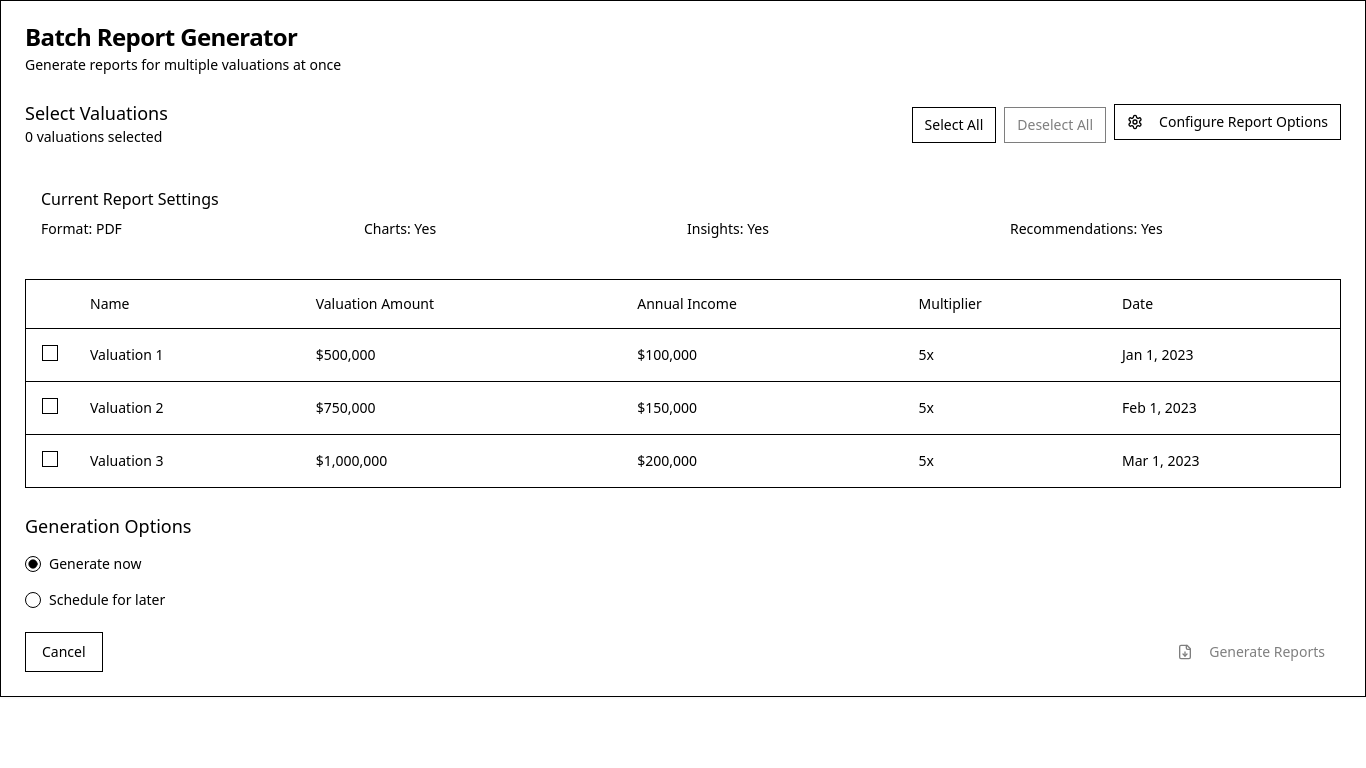
Test case: BatchReportGenerator Component › should allow selecting multiple valuations for batch reporting
Check: the text "Valuation 1" is shown, box [90,344,164,364]
What coordinates should you click on to do the following:
click the checkbox named "Select Valuation 1"
I would click on:
 (50, 352)
Its box is [42,344,58,360].
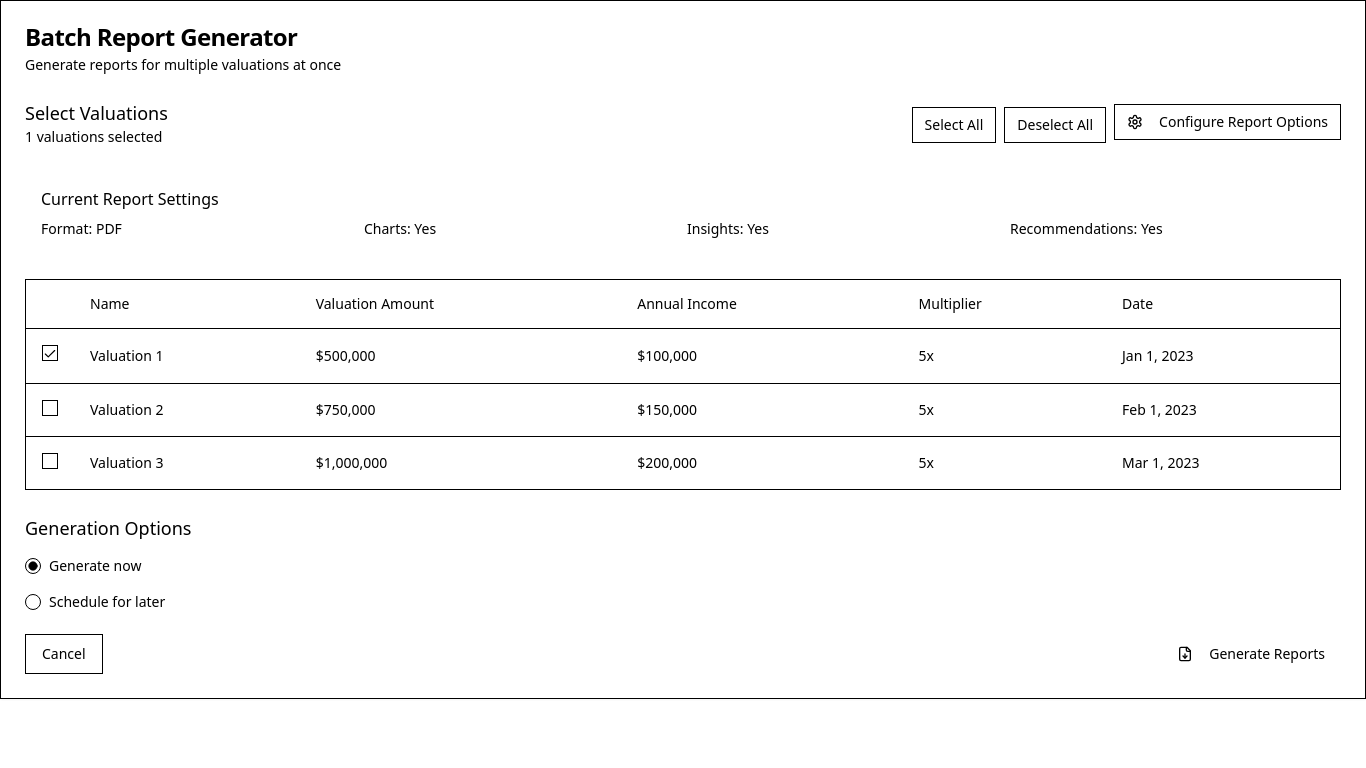
What coordinates should you click on to do the following:
click the checkbox named "Select Valuation 3"
I would click on:
 (50, 460)
Its box is [42,452,58,468].
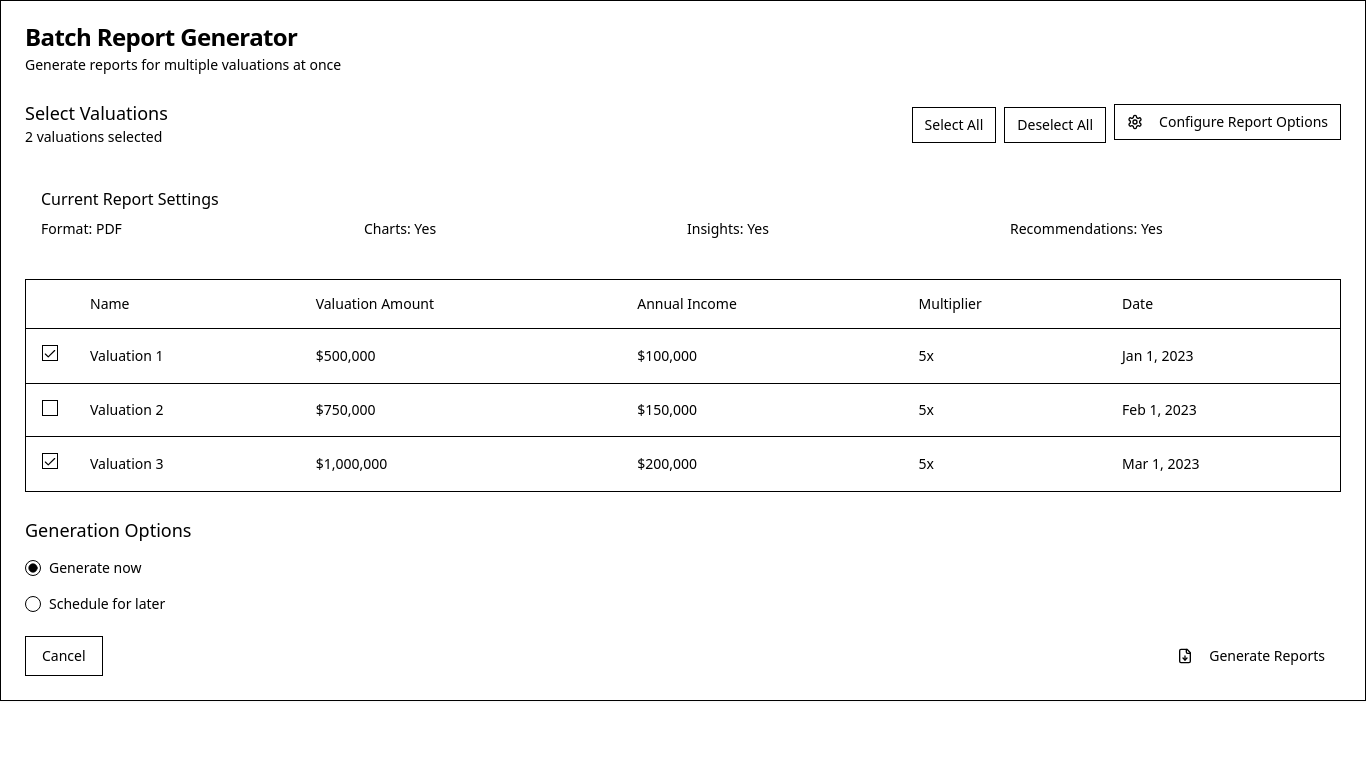
Check: the text "2 valuations selected" is shown, box [25,127,168,147]
